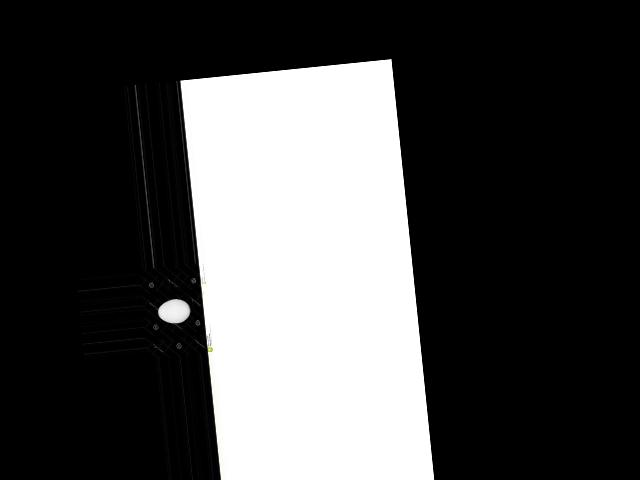egg: (157, 296, 191, 324)
